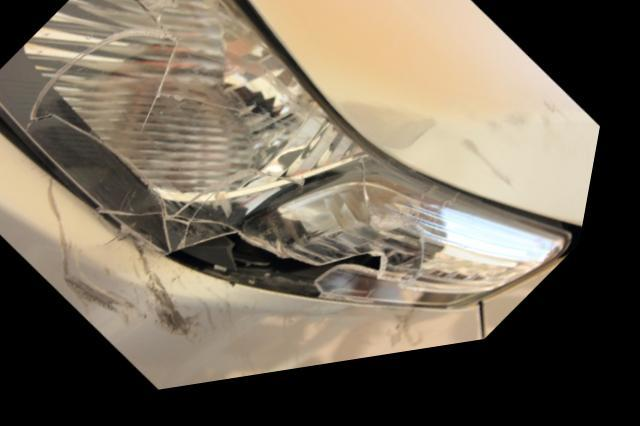scratch: (47, 181, 271, 347), (341, 112, 584, 206), (214, 315, 442, 392)
